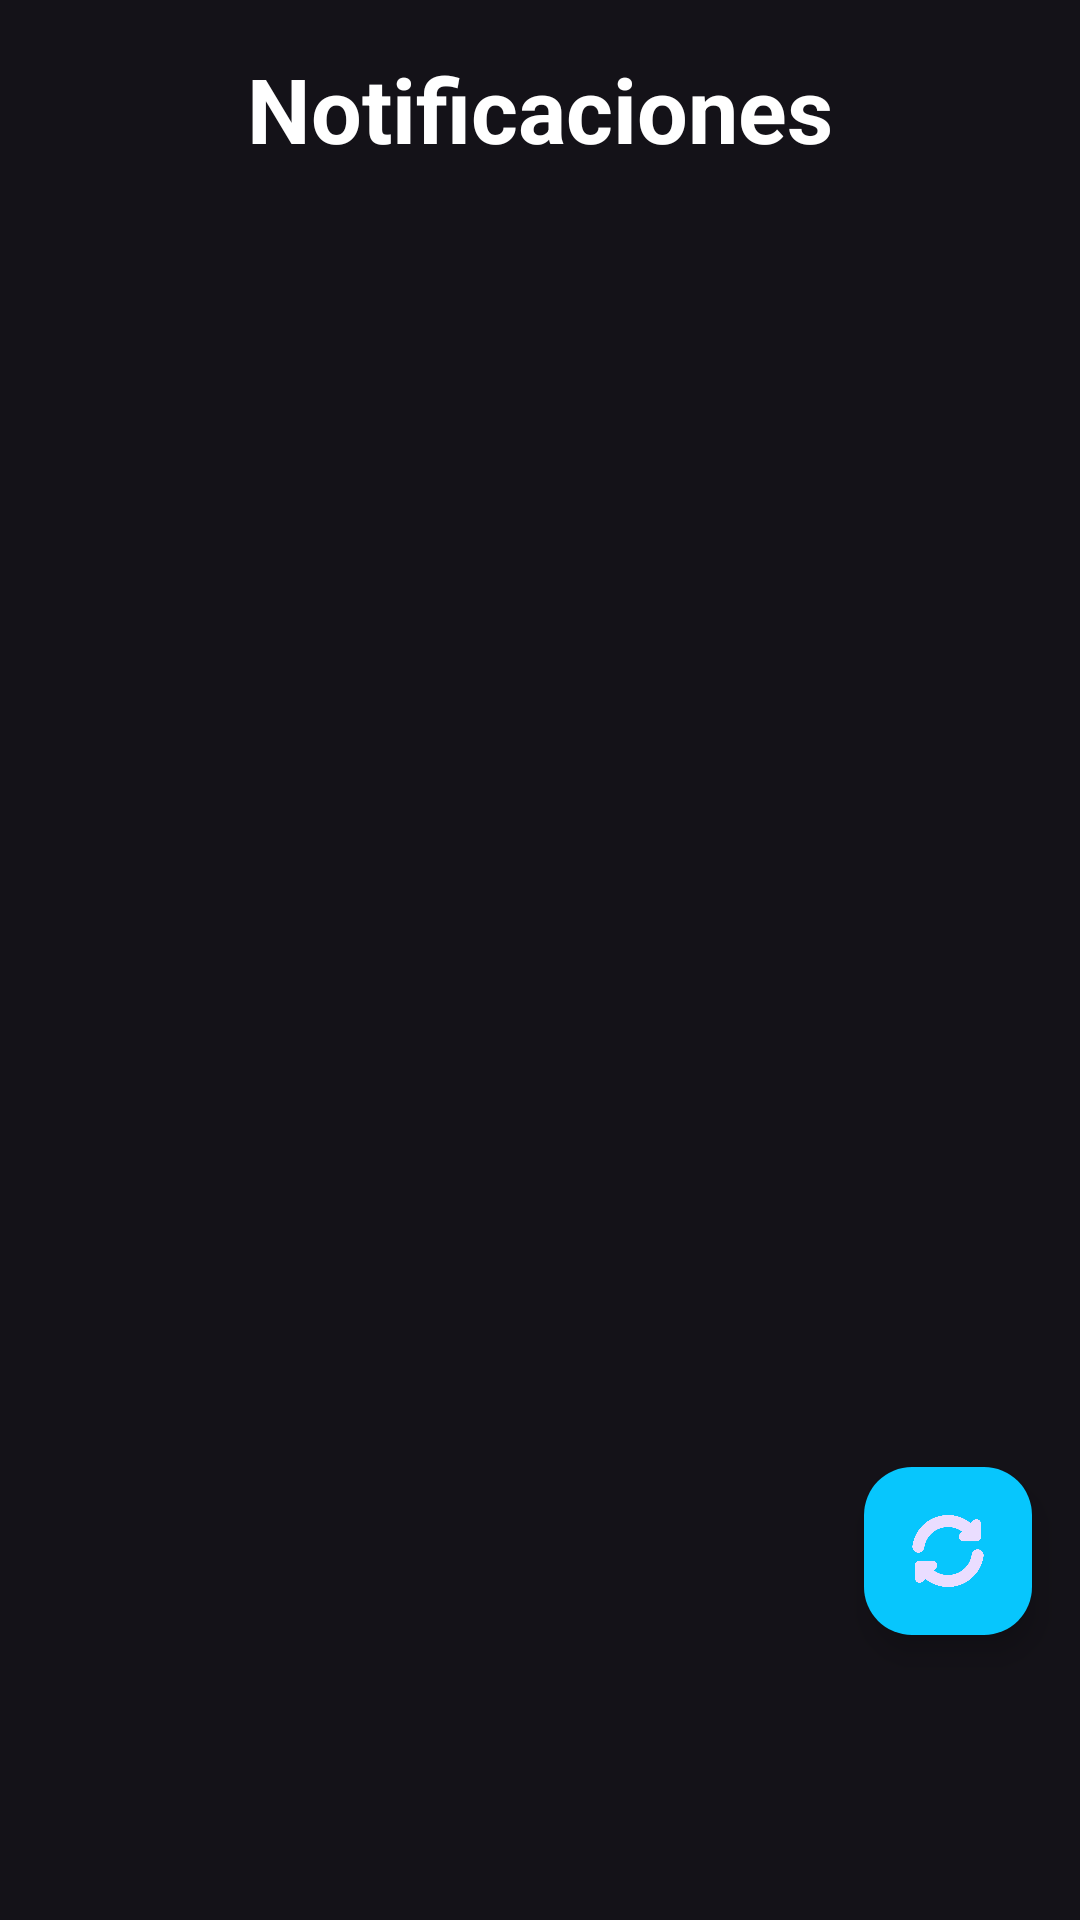

Screen size 1080px×1920px. Icon name, then its center in pixels as (x,y):
actualizar: (948,1551)
